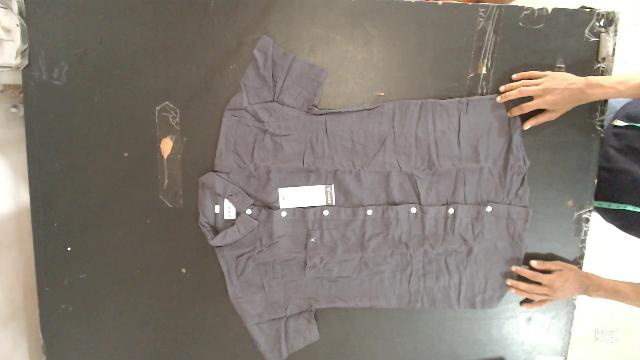new-garment: (199, 36, 530, 360)
